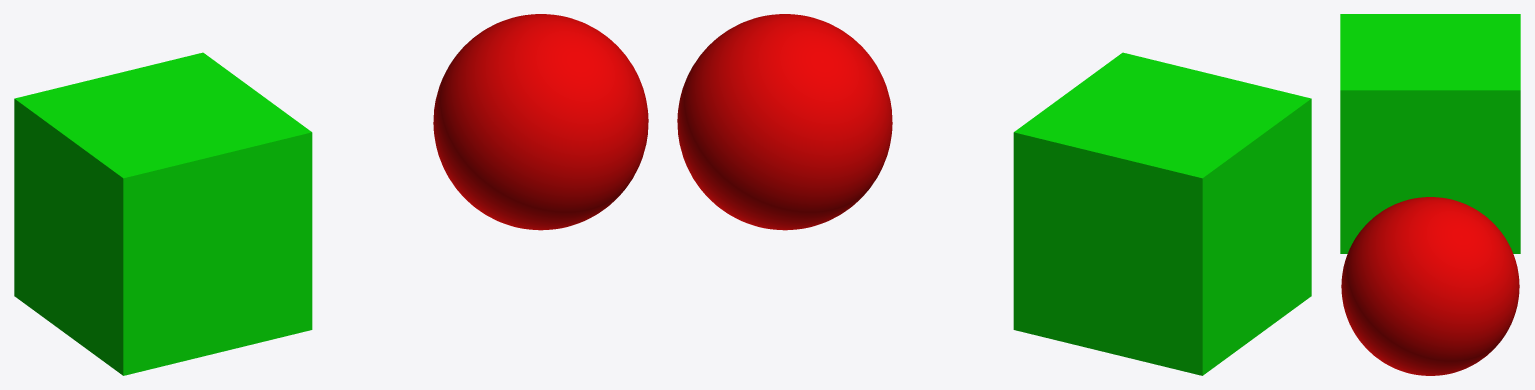
The model's file is CubeAndSphere.gltf.
3 views of the same model, side by side, from view 1: azimuth 30°, elevation 25°; view 2: azimuth 150°, elevation 25°; view 3: azimuth 270°, elevation 25° (orthographic). The views are drawn at different scales.
Parts seen in each view (by area): view 1: Cube, Sphere; view 2: Cube, Sphere; view 3: Cube, Sphere.
Boxes of the visible parts, <box> form: Cube: <box>14,52,312,375</box>; Sphere: <box>433,14,648,230</box>; Cube: <box>1013,52,1311,375</box>; Sphere: <box>677,14,892,230</box>; Cube: <box>1340,14,1520,253</box>; Sphere: <box>1341,197,1519,375</box>.
Bounding box in the file's own units: 5.99 × 2 × 2.
